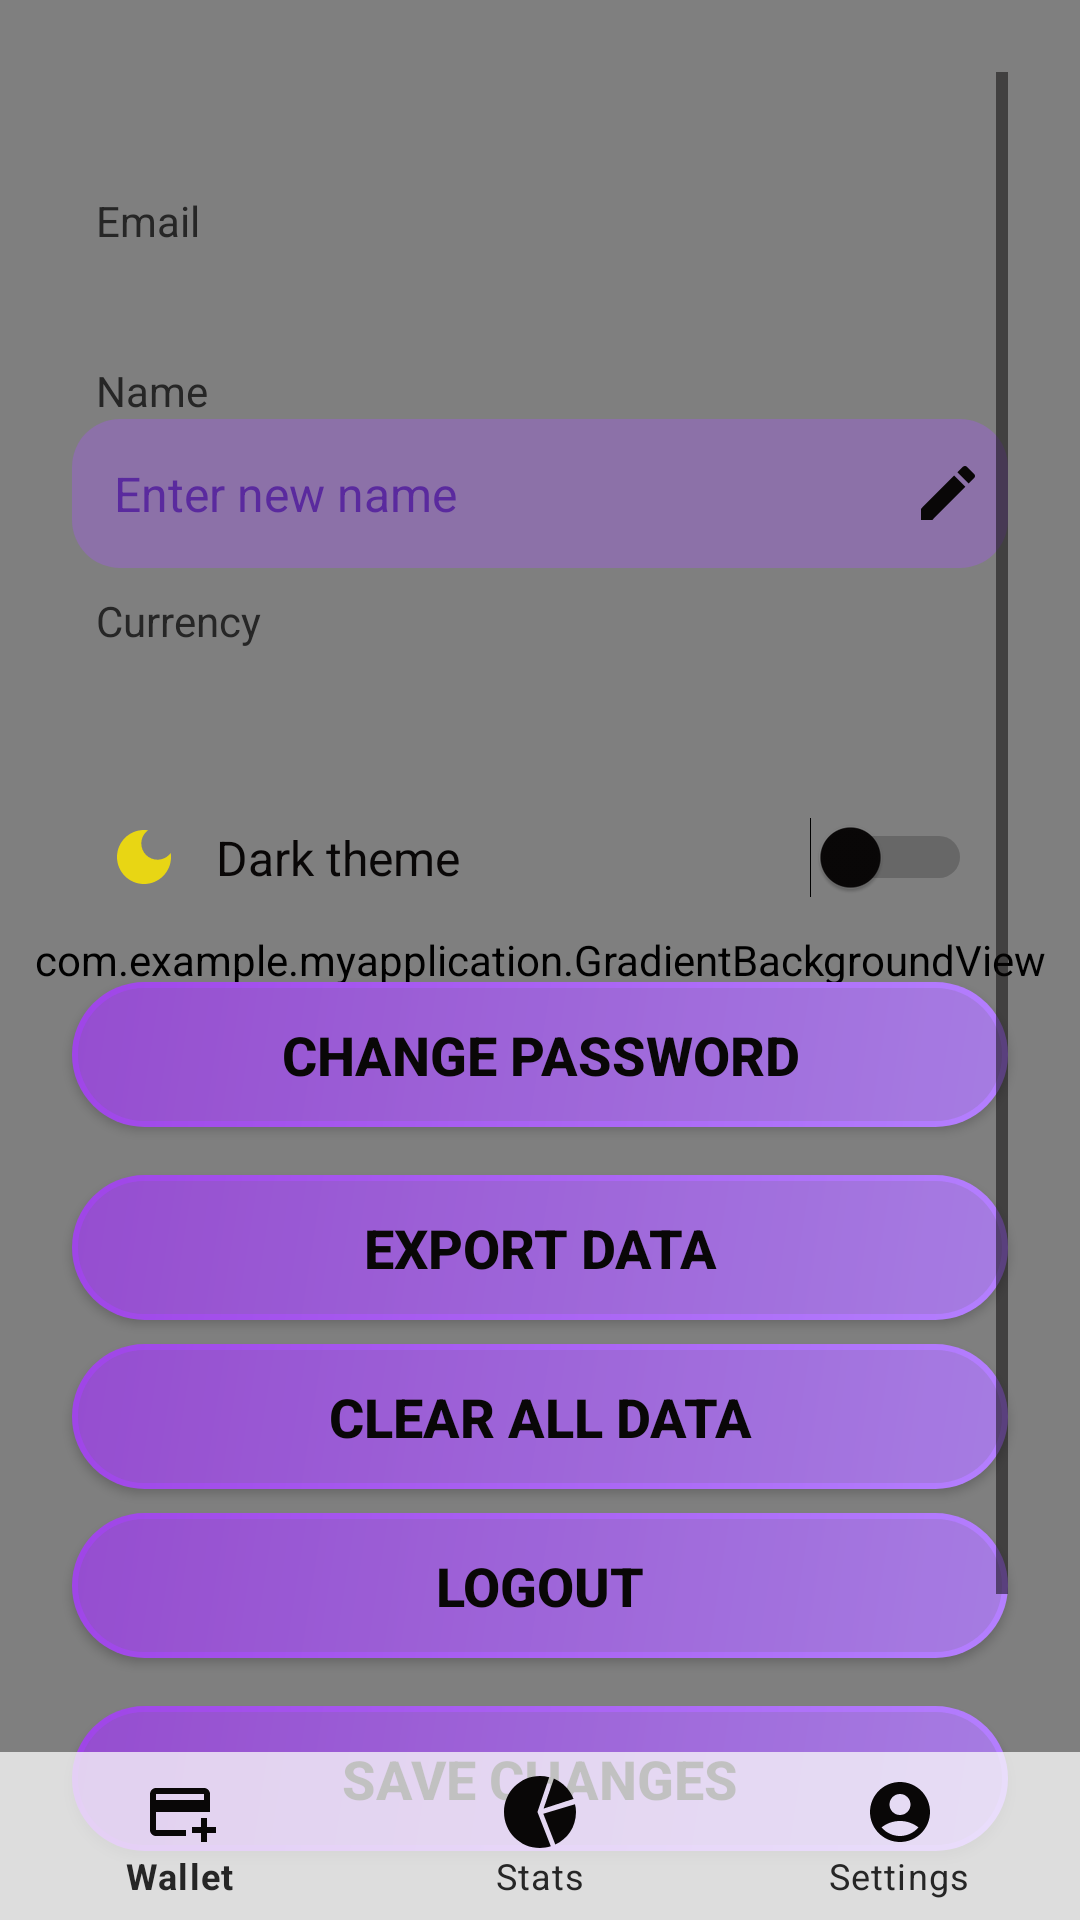

Icons on this 1080 × 1920 Android screen, each with the point to tap as (x=x, y=y):
edit: (x=948, y=493)
